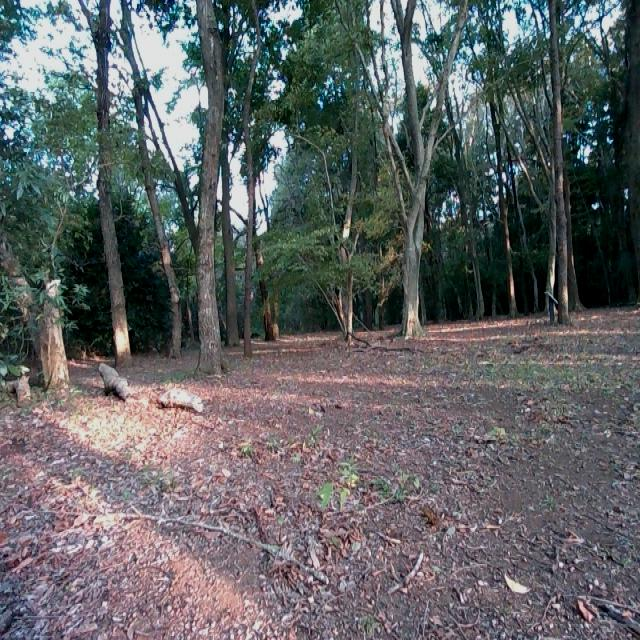tree: (94, 0, 134, 370), (393, 0, 435, 348), (194, 0, 226, 380), (138, 78, 182, 348), (2, 238, 74, 386), (333, 0, 364, 341), (543, 0, 573, 330), (253, 226, 283, 348), (242, 117, 255, 356), (158, 382, 202, 418), (96, 359, 129, 406), (7, 378, 30, 400)
